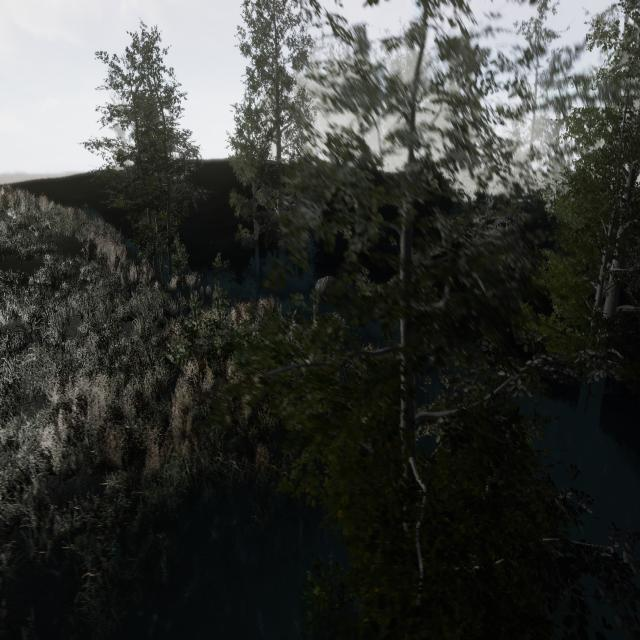Human: (288, 304, 298, 350)
